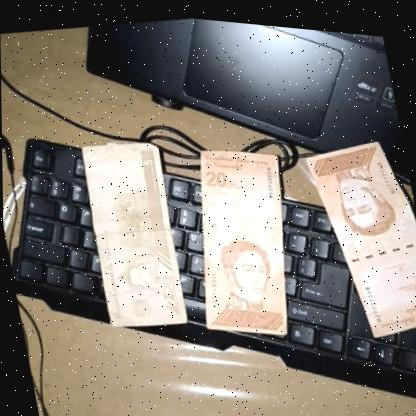five-back-vef: (75, 132, 190, 331)
twenty-front-vef: (172, 129, 311, 346), (299, 122, 416, 340)
